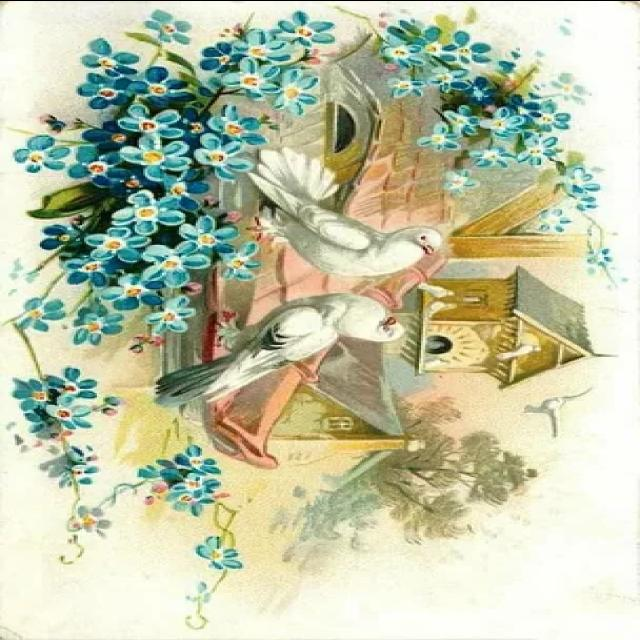pigeon: (248, 146, 450, 276)
